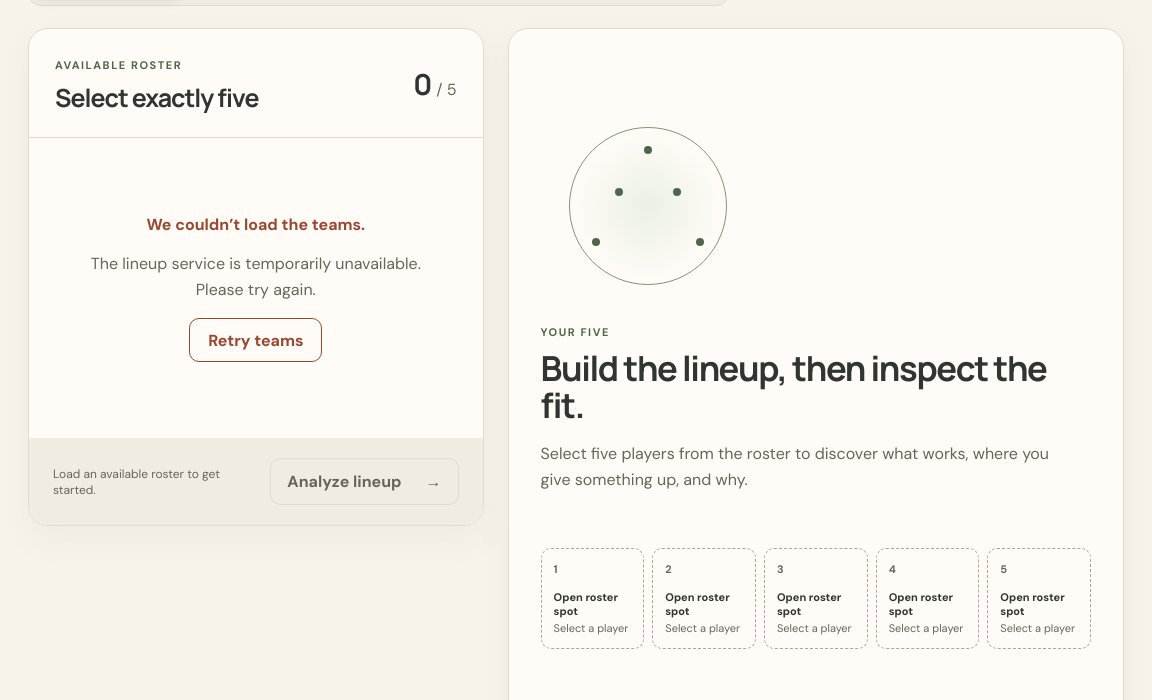
manual lineup builder › shows a team error instead of indefinite roster loading and recovers on retry
(page scrolled)
Expected: the text "We couldn’t load the teams." is shown, x1=146 y1=214 x2=365 y2=235
Expected: the button "Analyze lineup →" is disabled, x1=270 y1=458 x2=459 y2=505
Click the button "Retry teams".
click(256, 340)  # box x1=189 y1=318 x2=322 y2=362
(page scrolled)
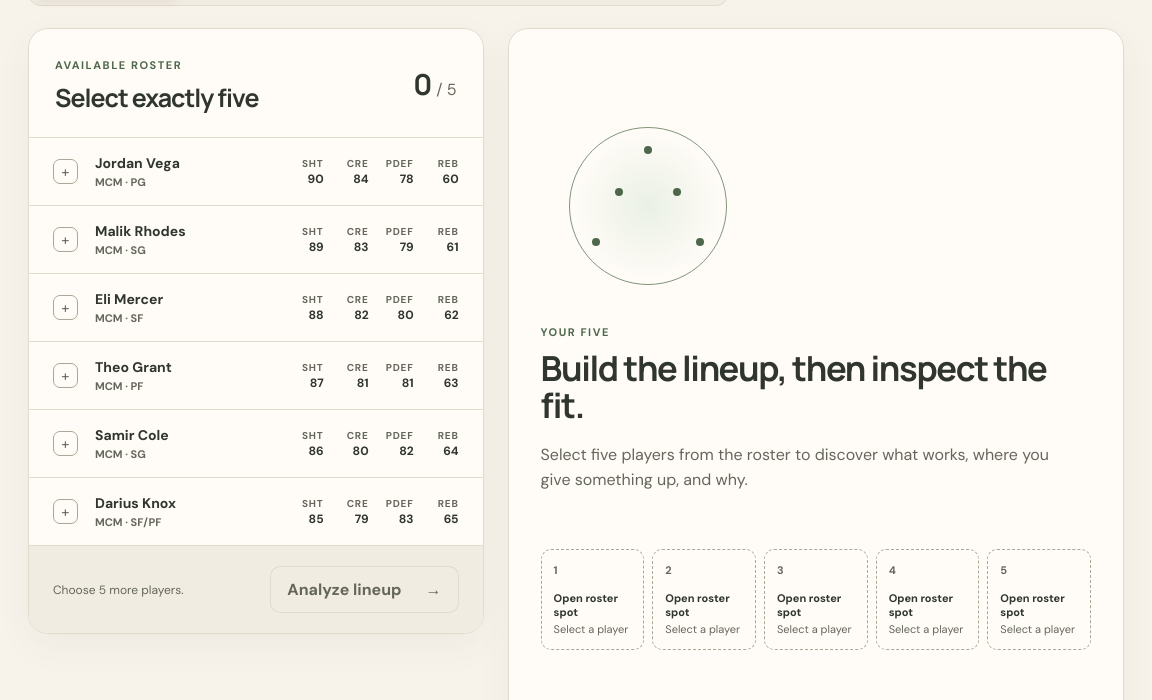
Expected: the button with aria-label "Select Jordan Vega" is shown, x1=29 y1=138 x2=483 y2=206
Expected: the text "We couldn’t load the teams." is gone
